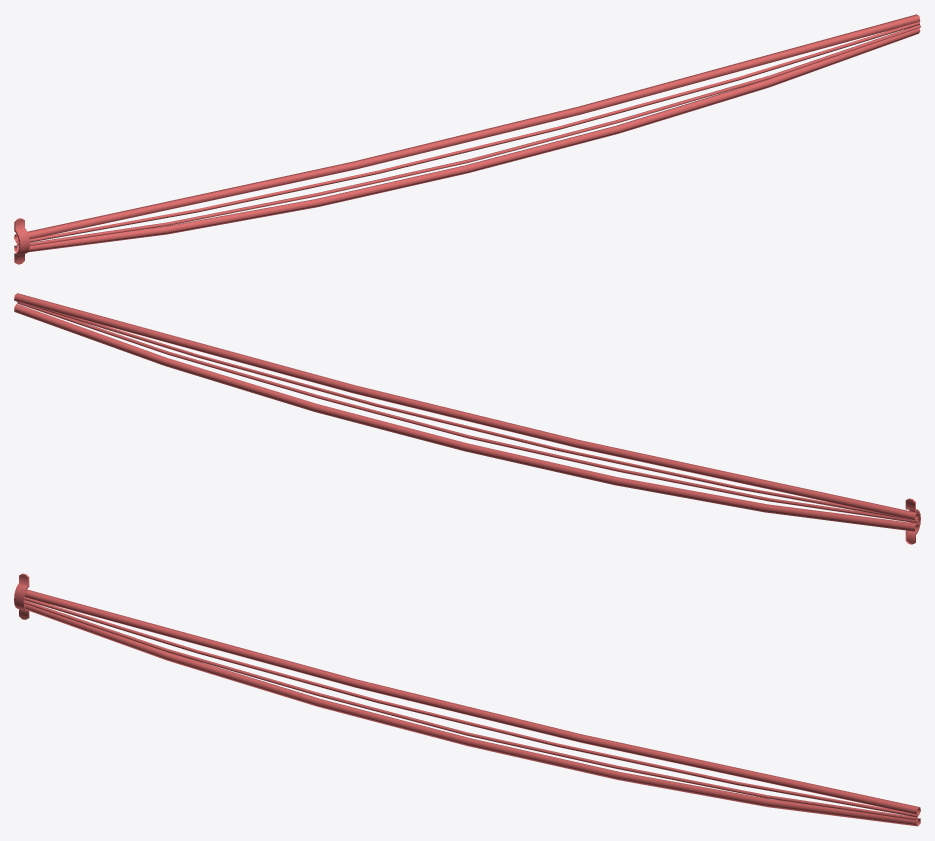
File: Wire_B_Snaps004.FBX
3 views of the same model, one above another, from view 1: azimuth 30°, elevation 25°; view 2: azimuth 150°, elevation 25°; view 3: azimuth 330°, elevation 25° (orthographic).
Visible parts, largest first — view 1: Geometry_Wire_B_LOD00; view 2: Geometry_Wire_B_LOD00; view 3: Geometry_Wire_B_LOD00.
Part boxes in pixels (<box>): Geometry_Wire_B_LOD00: <box>14,14,920,264</box>; Geometry_Wire_B_LOD00: <box>14,293,920,544</box>; Geometry_Wire_B_LOD00: <box>14,573,920,826</box>.
Size of what is drawn, in the model's own units: 300 by 19.67 by 3.7.
